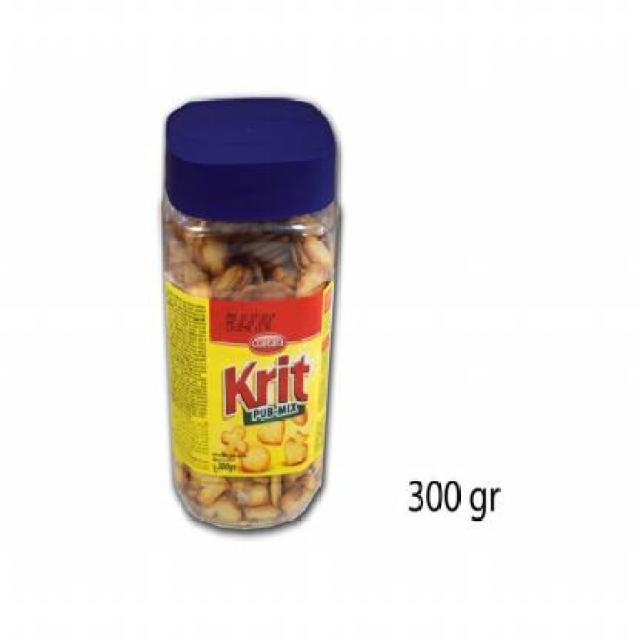Salatini: (159, 94, 344, 534)
